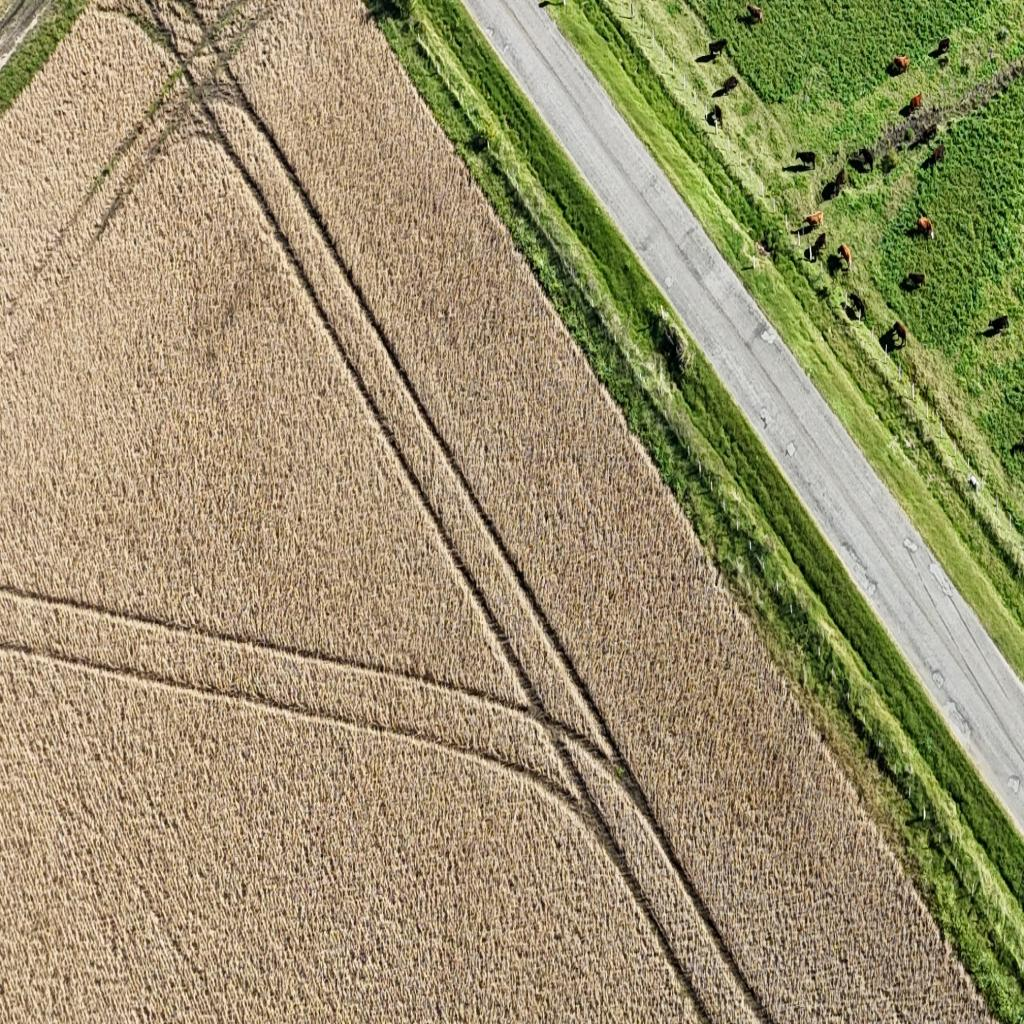cow: (908, 120, 938, 149), (880, 322, 907, 354), (822, 169, 846, 201), (910, 215, 935, 241), (712, 76, 738, 99), (846, 292, 866, 321), (980, 317, 1008, 337), (900, 95, 924, 118), (856, 146, 875, 174), (809, 231, 826, 261), (927, 143, 945, 170), (803, 212, 824, 235), (902, 272, 926, 292), (888, 55, 910, 76), (930, 36, 950, 59), (794, 150, 816, 170), (707, 38, 727, 60), (745, 3, 764, 26), (838, 243, 853, 272), (828, 254, 845, 278), (708, 104, 722, 130), (696, 50, 718, 64), (1016, 437, 1024, 458)
